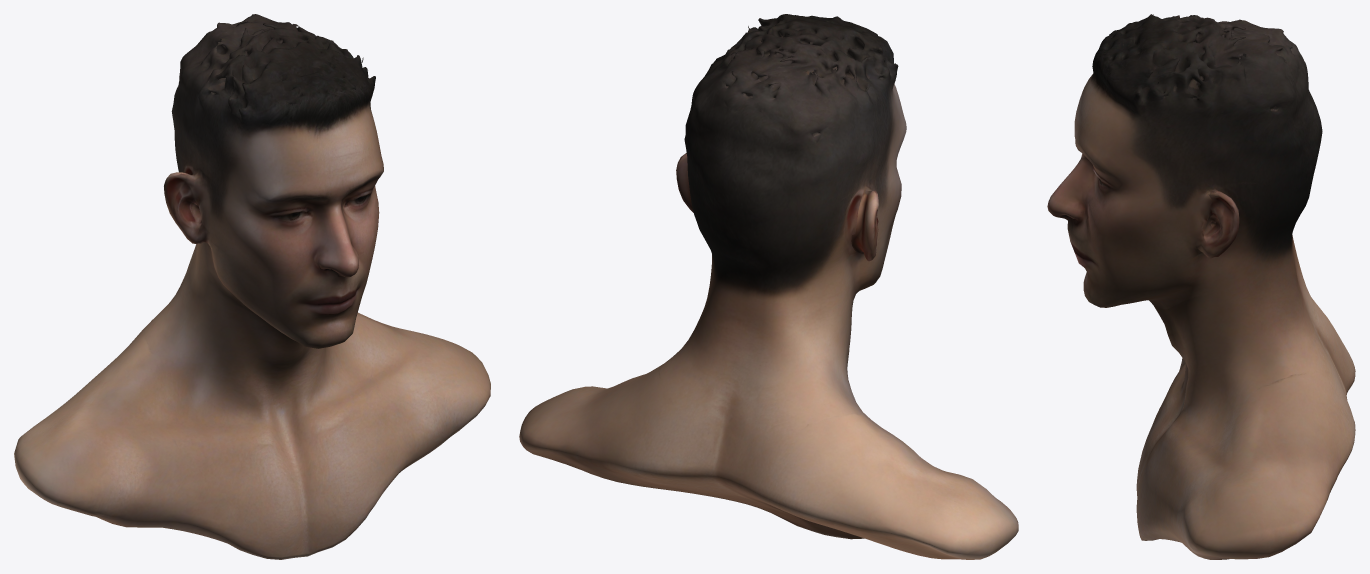
3 views of the same model, side by side, from view 1: azimuth 30°, elevation 25°; view 2: azimuth 150°, elevation 25°; view 3: azimuth 270°, elevation 25° (orthographic). The views are drawn at different scales.
Size of the model in its own units: 1.89 by 1.98 by 1.1.
Materials: 1 (1 with a texture image).
